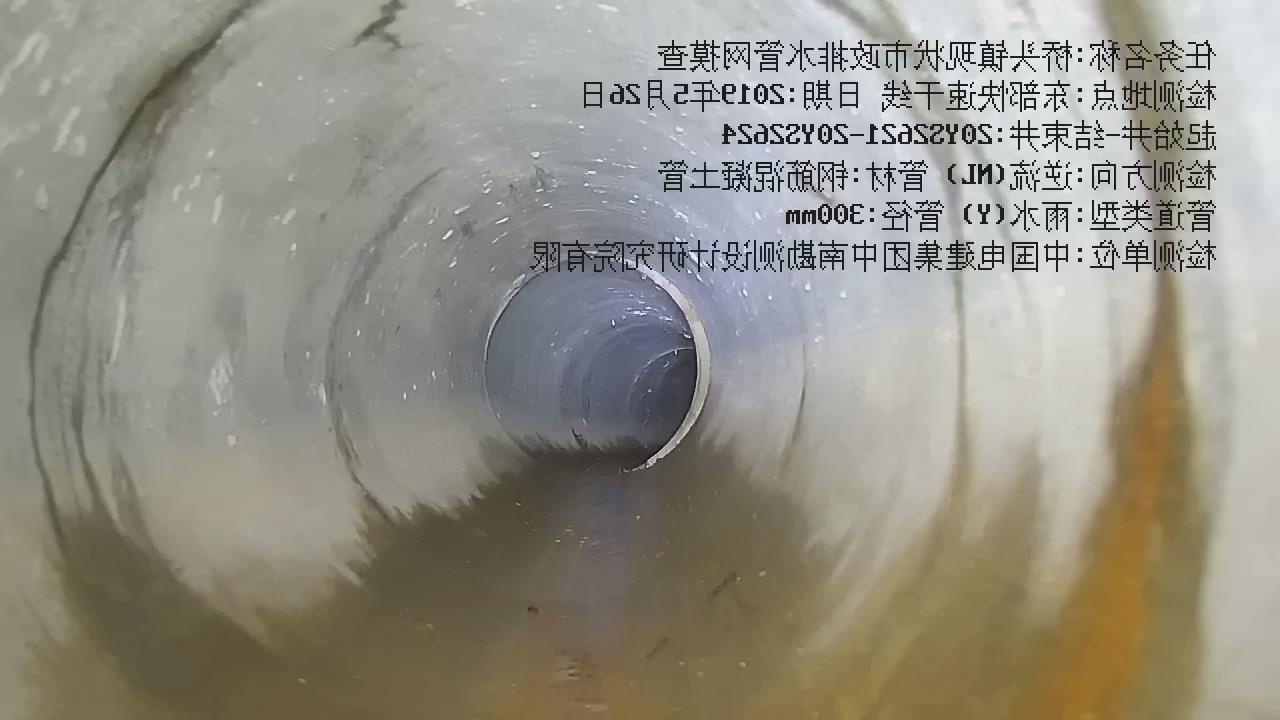CKTJ: (622, 258, 711, 471), (483, 269, 549, 367)
